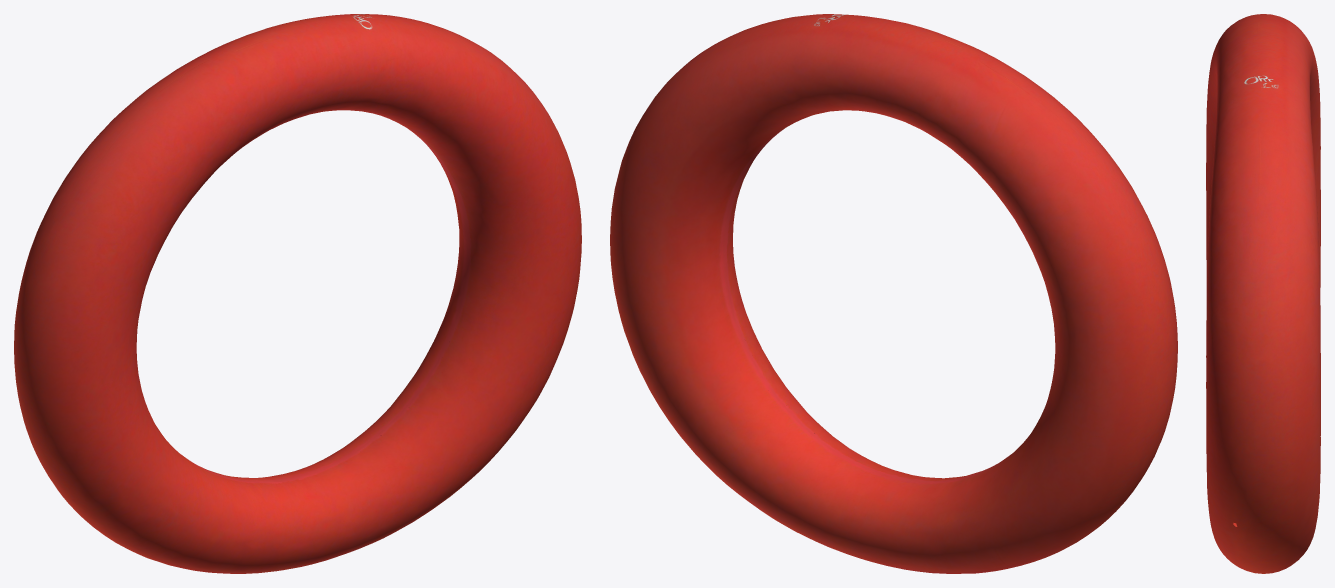
The model's file is oracle.glb.
3 views of the same model, side by side, from view 1: azimuth 30°, elevation 25°; view 2: azimuth 150°, elevation 25°; view 3: azimuth 270°, elevation 25° (orthographic). The views are drawn at different scales.
Bounding box in the file's own units: 2 × 1.86 × 0.3892.
1 material, 1 textured.
